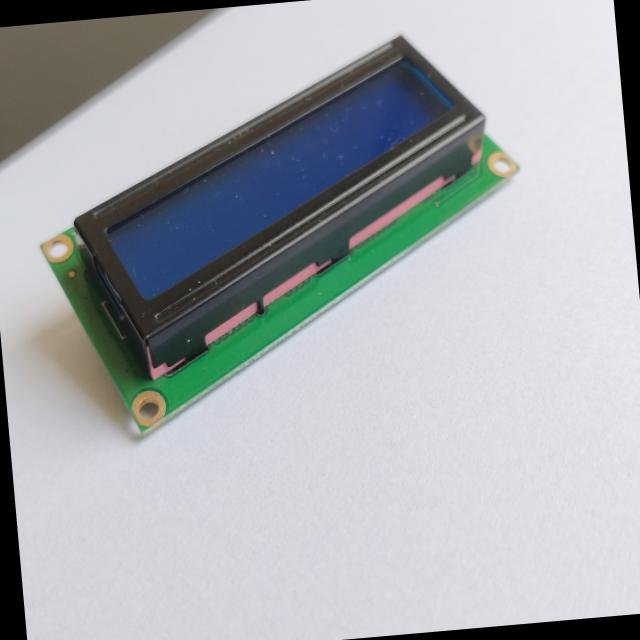lcd: (12, 5, 550, 439)
